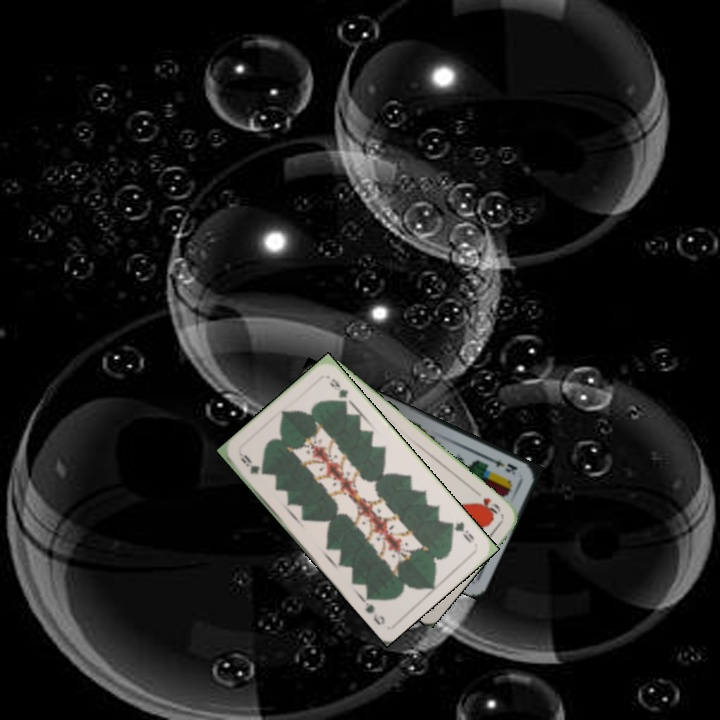EK: (485, 453, 520, 477)
G9: (445, 518, 477, 545), (236, 450, 262, 477)
HO: (473, 494, 504, 518)
